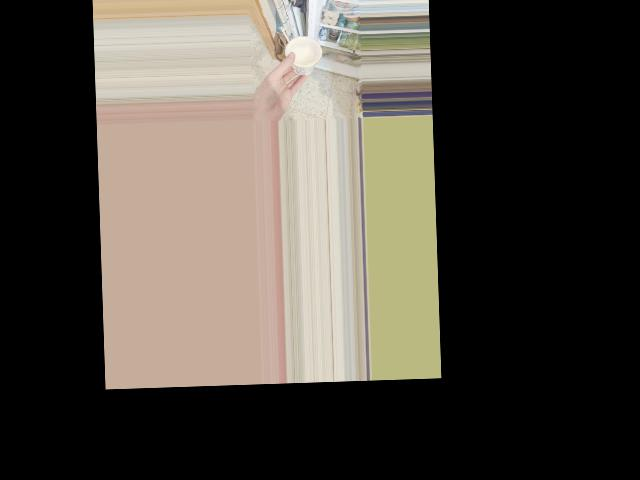cotage: (282, 36, 317, 78)
